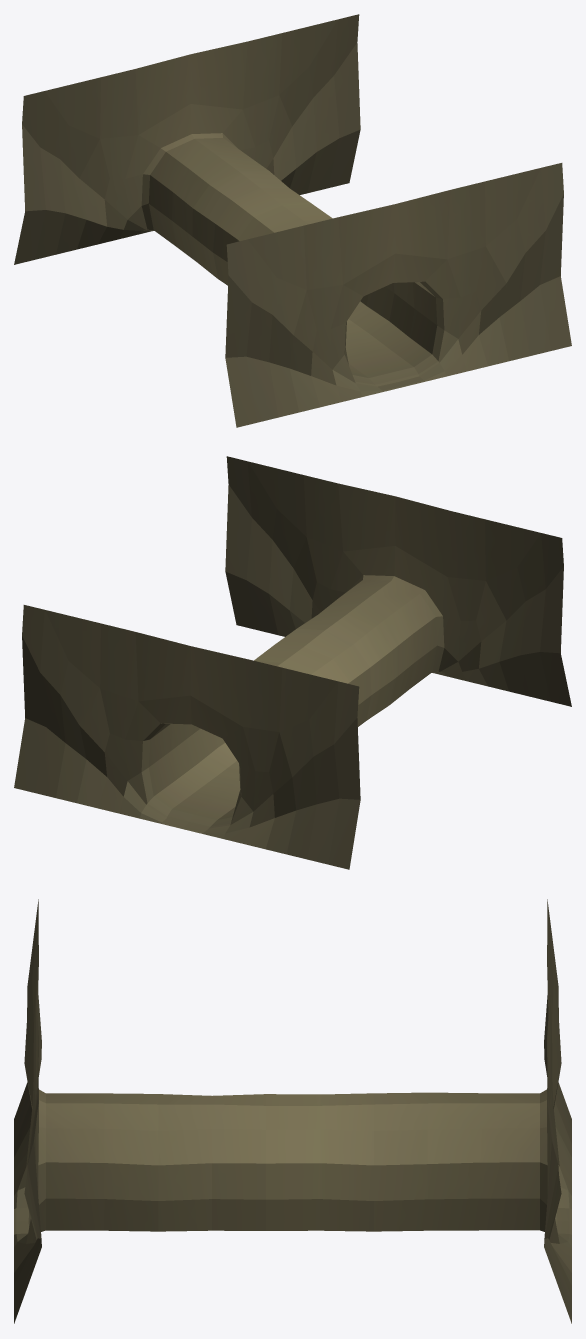
File: floorCave.fbx
The picture shows the model from 3 angles, top to bottom: view 1: azimuth 30°, elevation 25°; view 2: azimuth 150°, elevation 25°; view 3: azimuth 270°, elevation 25°; orthographic projection. The views are drawn at different scales.
Visible parts, largest first — view 1: Floor_Cave; view 2: Floor_Cave; view 3: Floor_Cave.
Boxes of the visible parts, x1,y1,x2,y2 form: Floor_Cave: (14, 14, 571, 427); Floor_Cave: (14, 456, 571, 869); Floor_Cave: (14, 899, 571, 1323).
Bounding box in the file's own units: 6000 × 3013 × 6893.
Materials: 1 (1 with a texture image).
